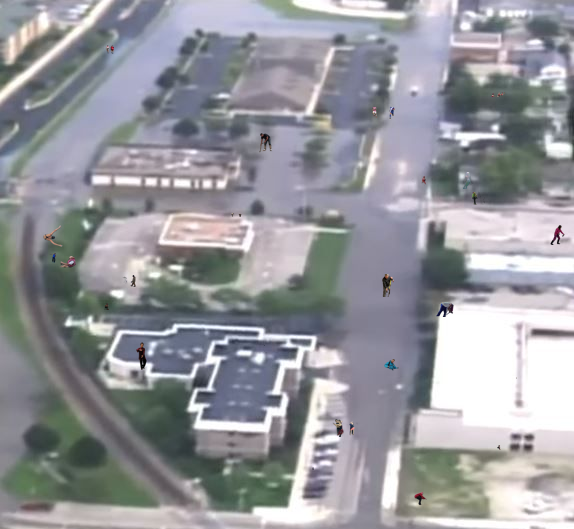Human: (40, 225, 63, 247), (332, 419, 360, 437), (549, 225, 571, 245), (136, 342, 147, 370), (372, 106, 395, 119), (259, 133, 273, 154), (411, 176, 433, 189), (436, 302, 455, 317), (382, 274, 394, 297), (57, 256, 76, 268), (472, 190, 485, 205), (414, 492, 427, 507), (384, 359, 399, 371), (122, 275, 136, 287), (463, 172, 471, 189), (491, 92, 507, 97), (106, 45, 114, 54), (49, 253, 56, 263), (231, 213, 242, 217), (103, 303, 109, 310), (497, 445, 501, 450), (312, 467, 314, 470), (264, 344, 265, 346), (516, 377, 517, 379)
